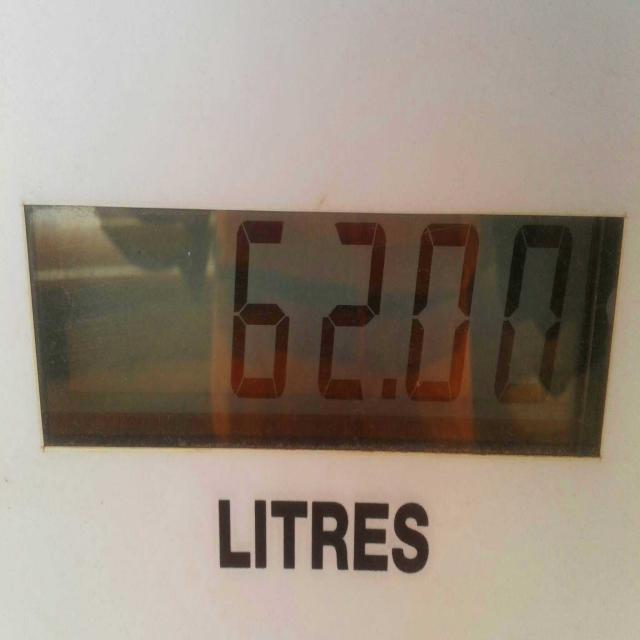.: (383, 371, 398, 404)
0: (409, 220, 482, 403), (494, 228, 566, 399)
2: (320, 218, 382, 394)
6: (234, 217, 297, 401)
